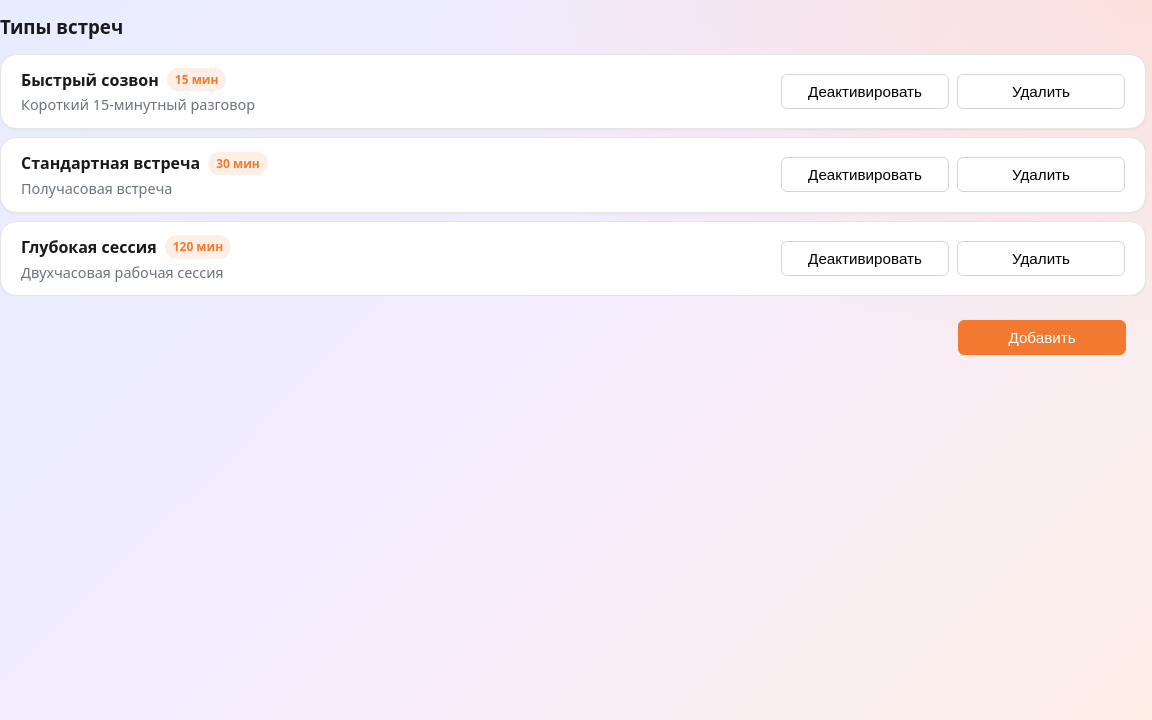
EventTypeManager › создаёт новый тип встречи через модальное окно со всеми полями
Expected: the text "Быстрый созвон" is shown, [21, 69, 159, 91]
Step 1. Click the button "Добавить" → (1042, 338), box [958, 320, 1126, 355]
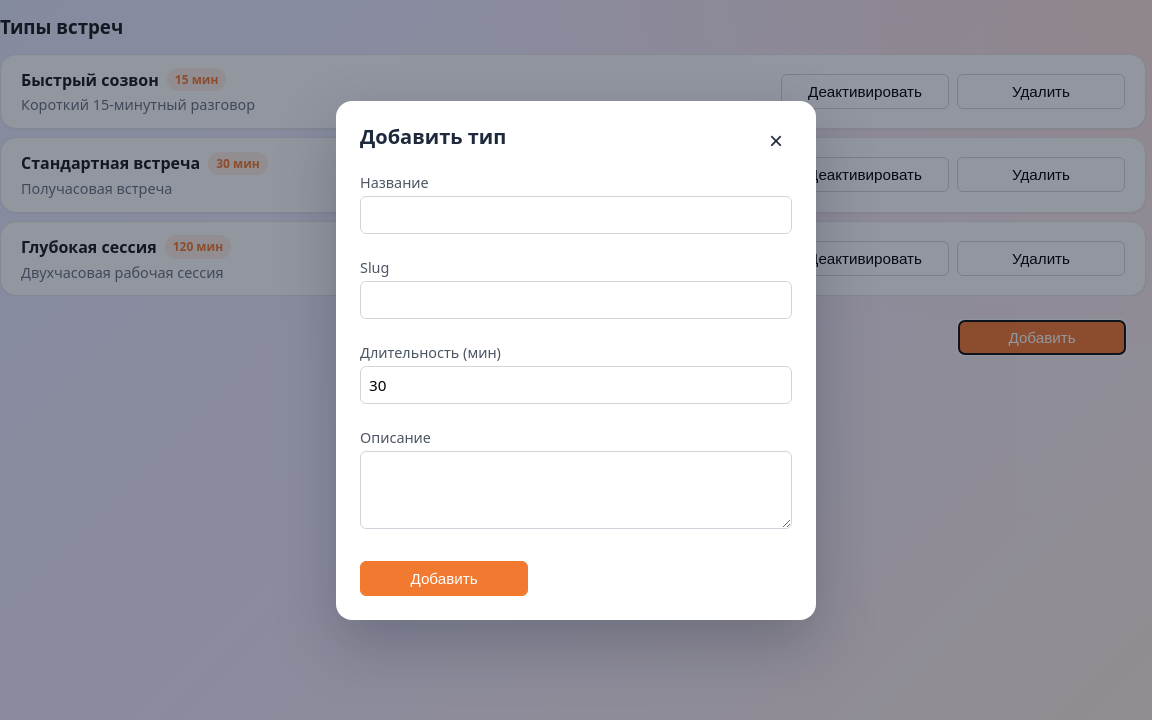
Step 2. Type "Интервью" into the field labelled "Название" → (576, 214), box [360, 196, 792, 234]
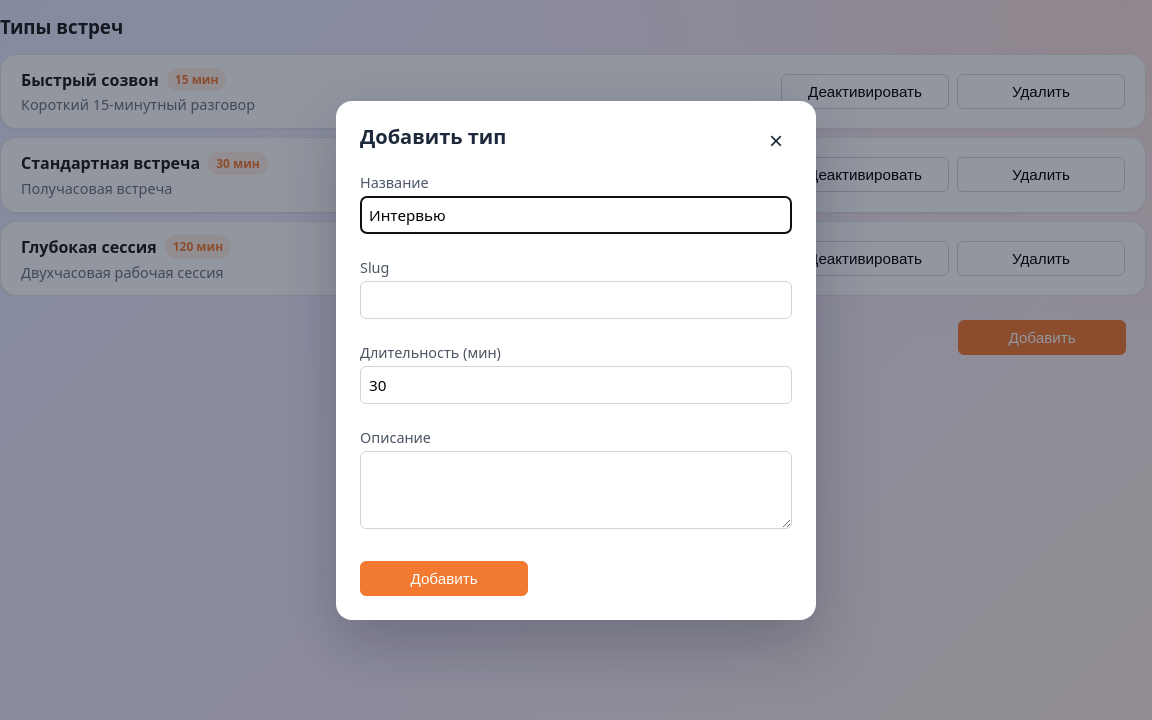
Step 3. Type "interview-45" into the field labelled "Slug" → (576, 300), box [360, 280, 792, 318]
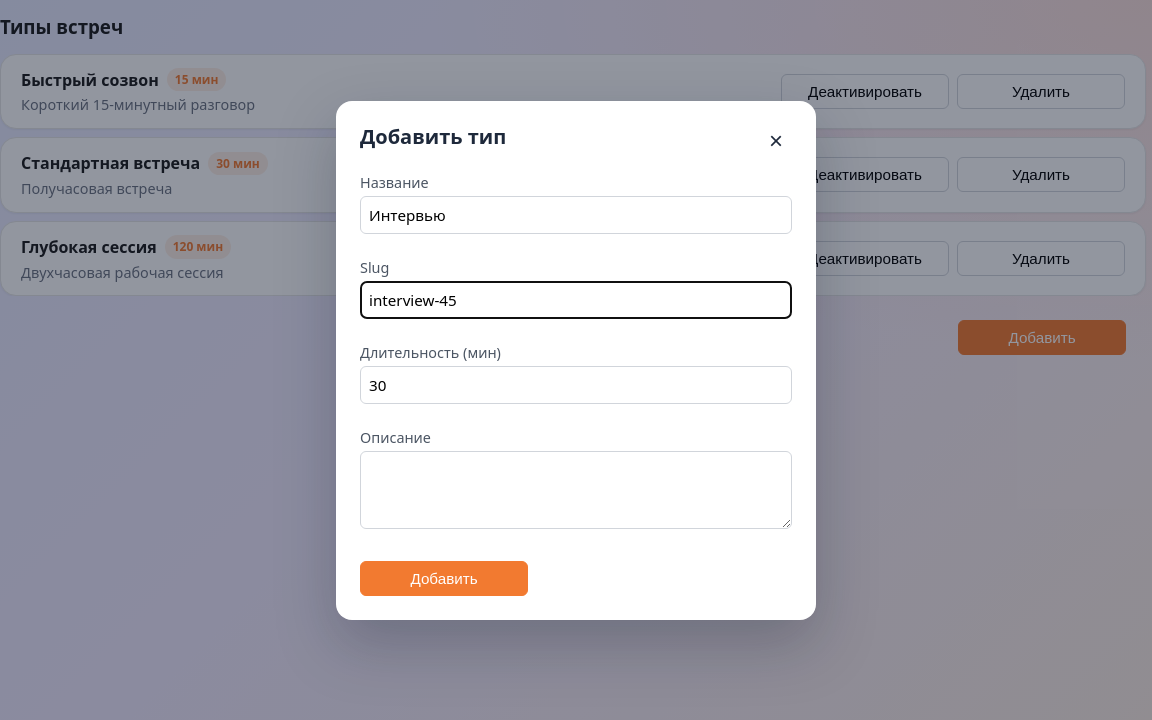
Step 4. Replace the text in the number field labelled "Длительность" with "45" → (576, 384), box [360, 366, 792, 404]
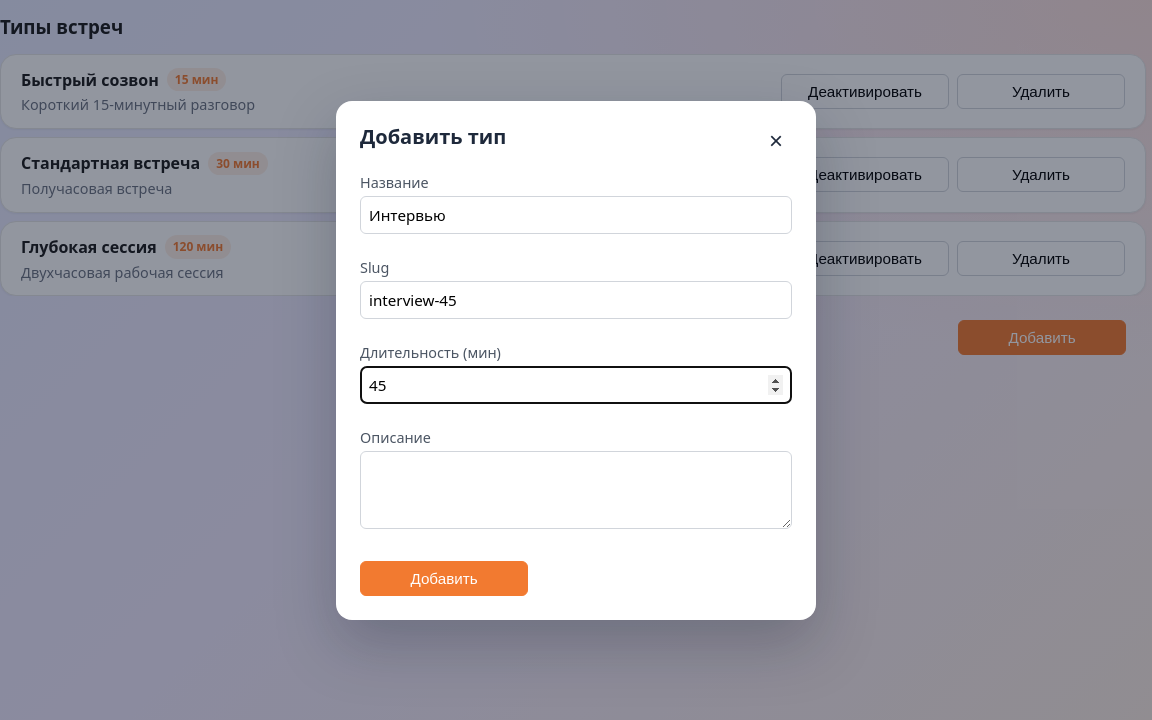
Step 5. Type "Интервью по найму" into the text box labelled "Описание" → (576, 490), box [360, 450, 792, 528]
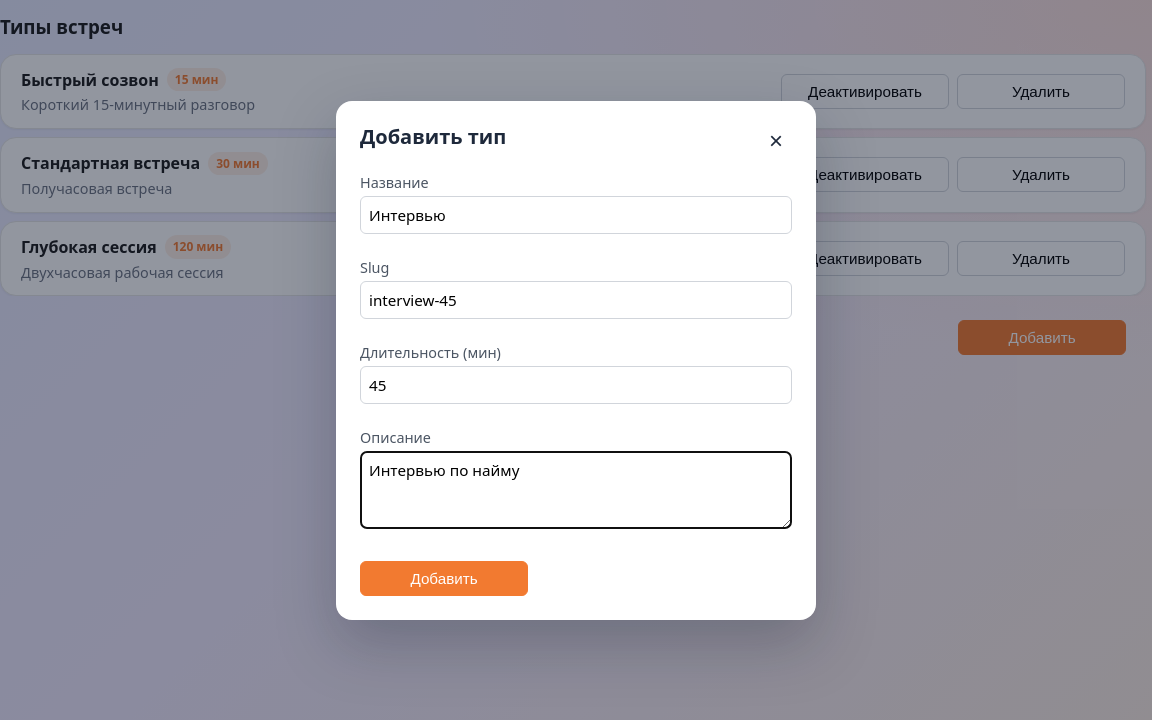
Step 6. Click the button "Добавить" → (444, 578), box [360, 560, 528, 596]
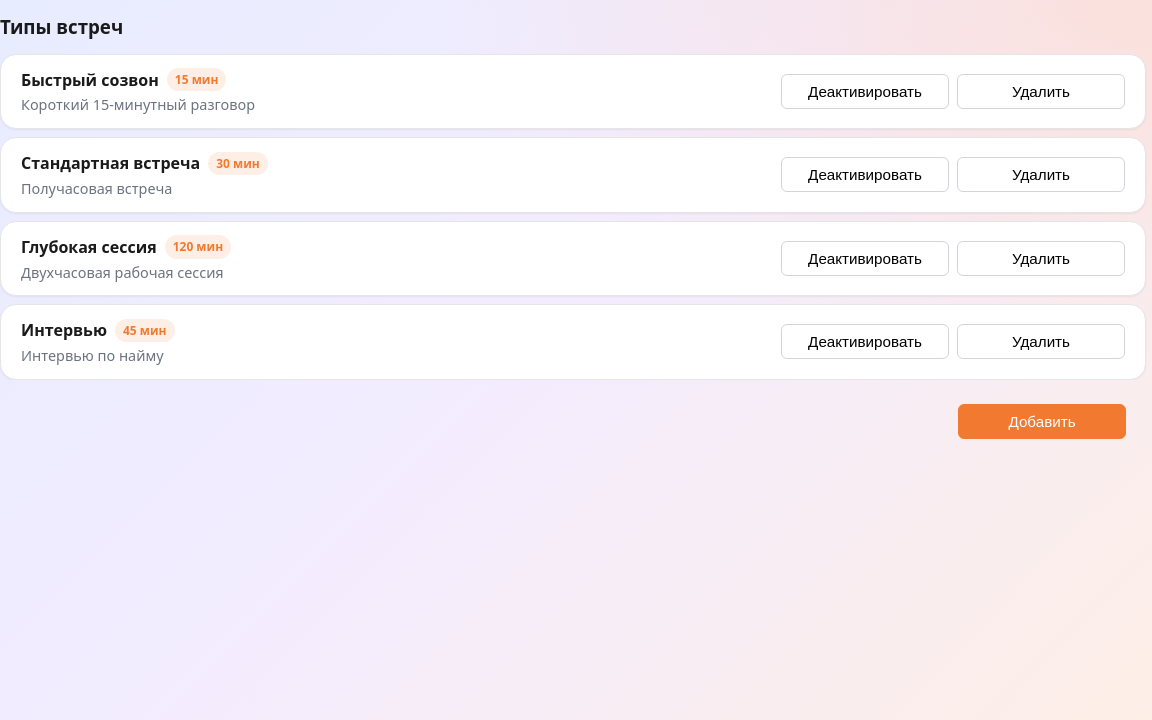
Now the text "Интервью" is shown, box [21, 320, 107, 342]
Now the text "Интервью по найму" is shown, box [21, 346, 174, 365]
